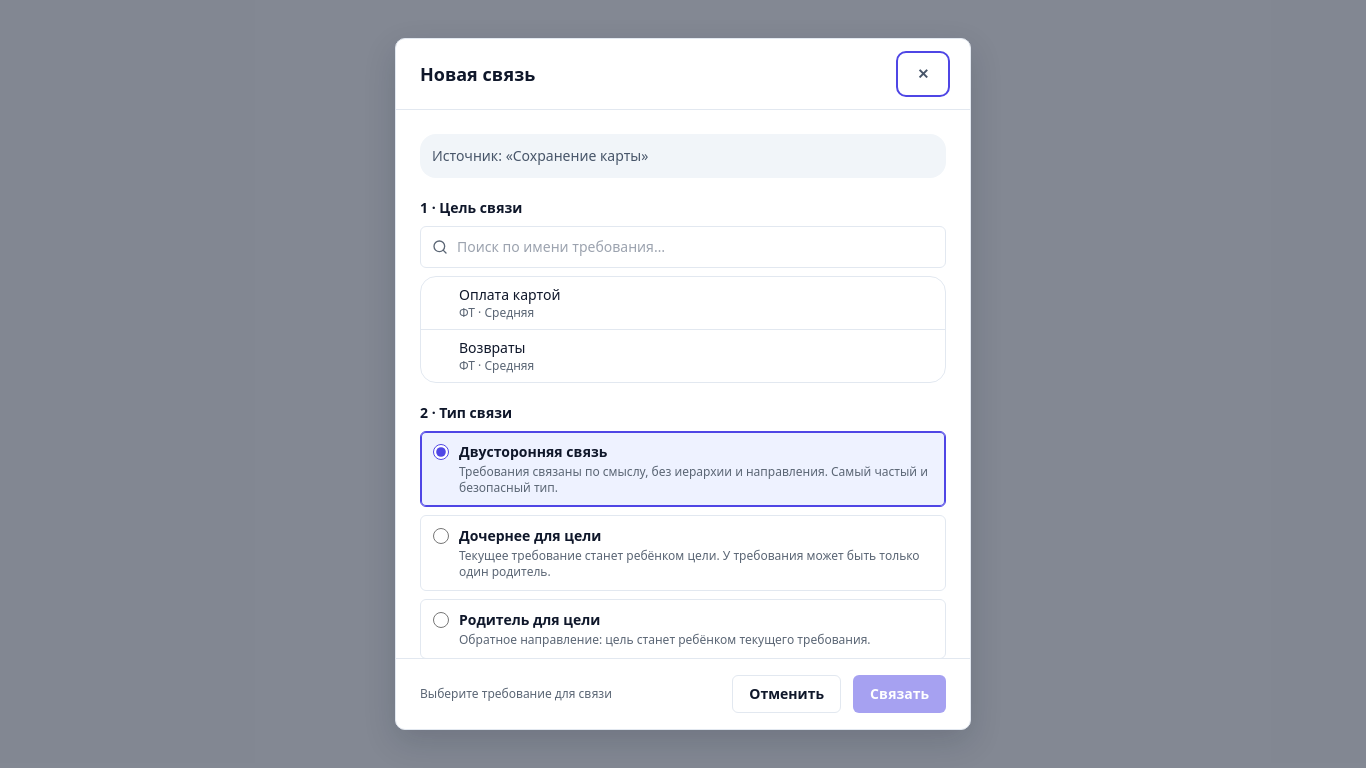
Scenario: LinkModal (T-606, FR-8) › explains why «Связать» is disabled until a target is picked
Expected: the button with test id "link-submit" is disabled, [853,675,946,713]
Expected: the text with test id "link-submit-hint" reads "Выберите требование для связи", [420,685,612,702]
# Pick a compatible target → hint disappears and the button enables.
Type "Оплата" into the search field with test id "link-search".
click(683, 247); type("Оплата")  # box [420,226,946,268]
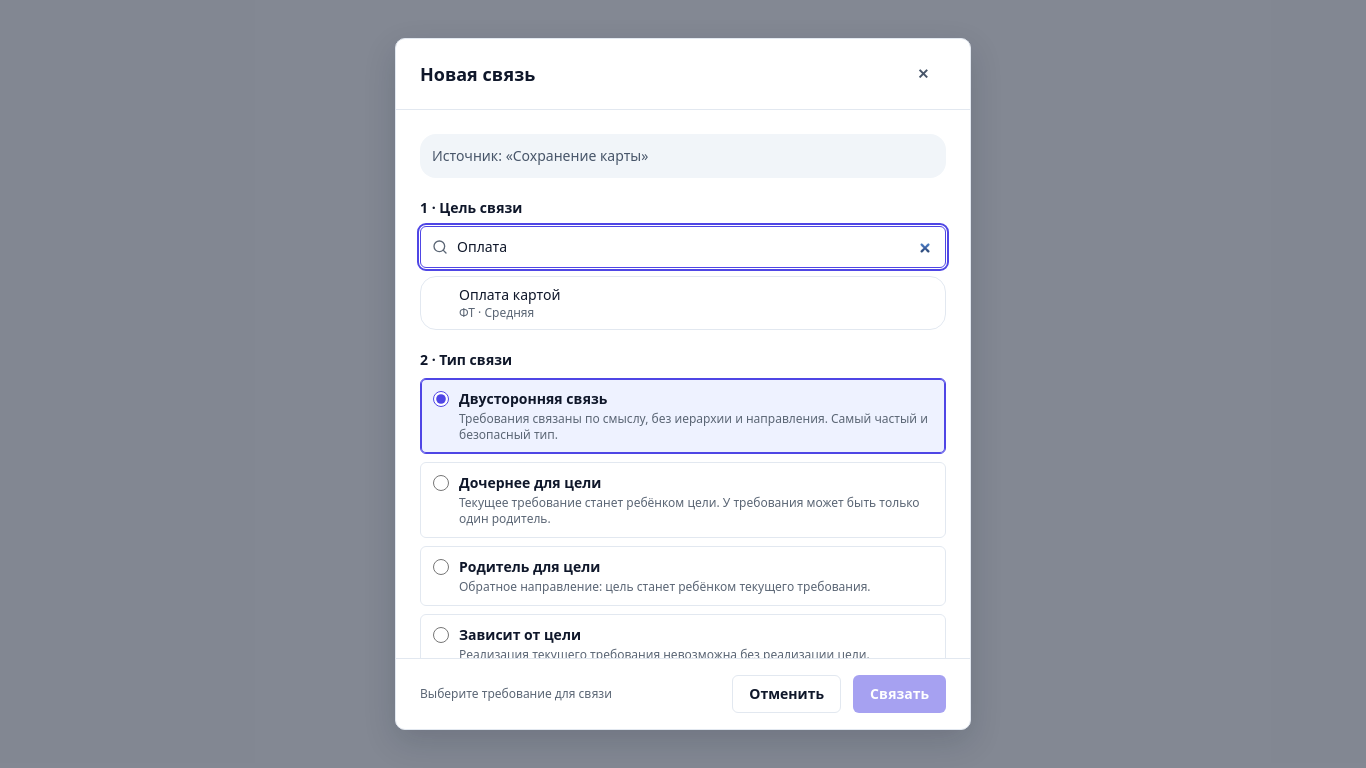
Click the option with test id "link-result-a1".
click(510, 295)  # box [421,277,945,329]
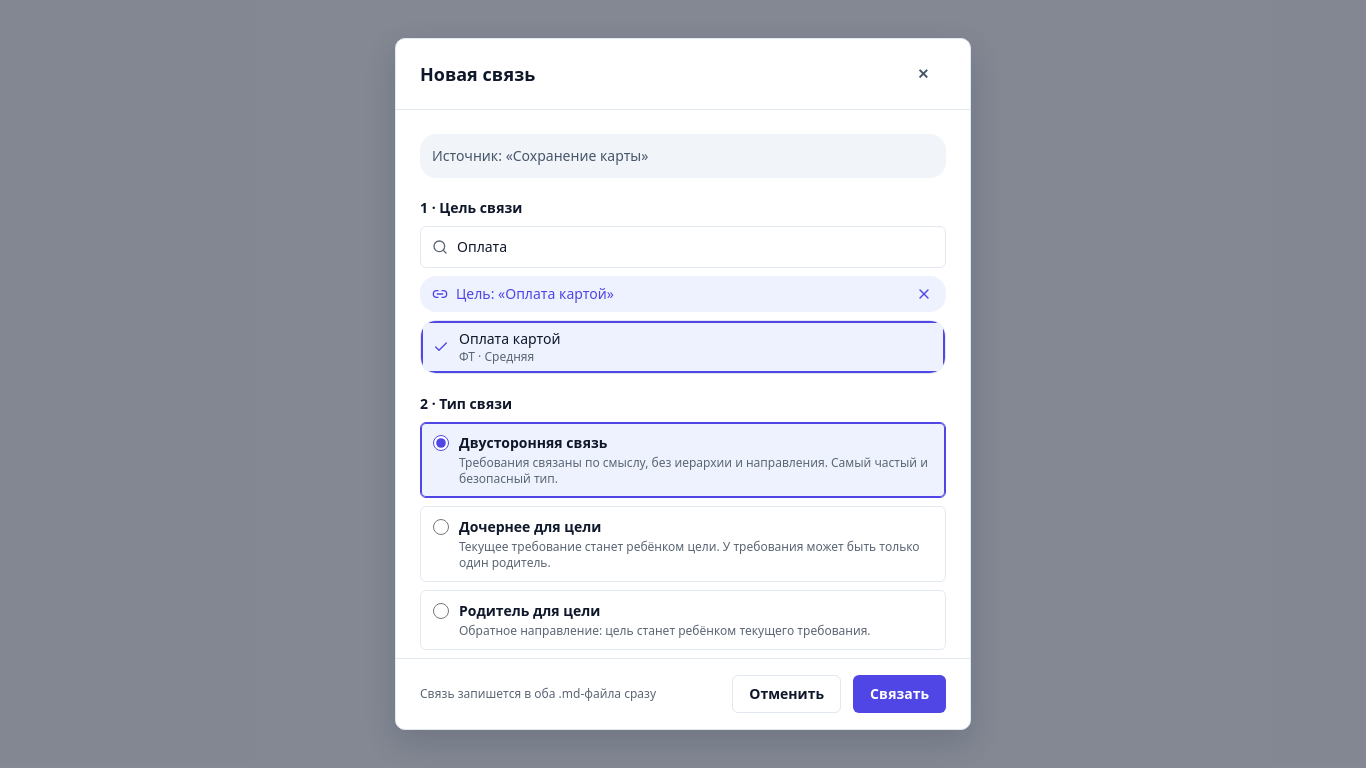
Now the button with test id "link-submit" is enabled, box [853,675,946,713]
